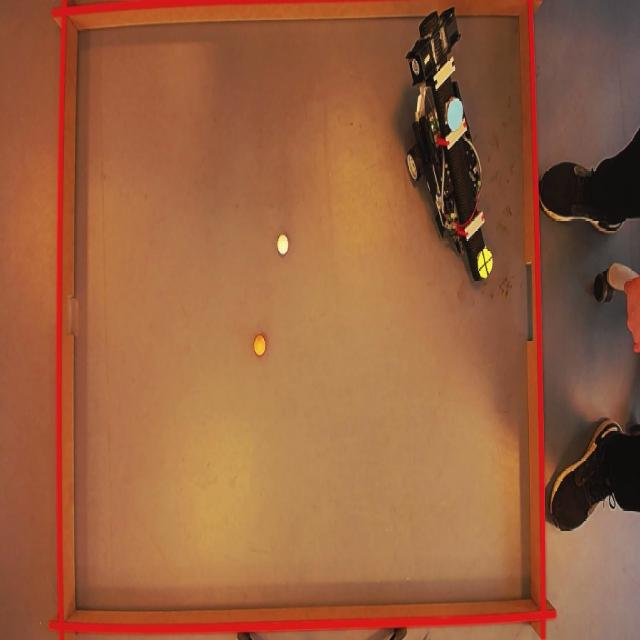orange: (255, 335, 268, 356)
robot: (401, 4, 490, 294)
robot-front: (478, 248, 493, 280)
robot-rear: (446, 98, 464, 132)
white: (275, 234, 288, 254)
